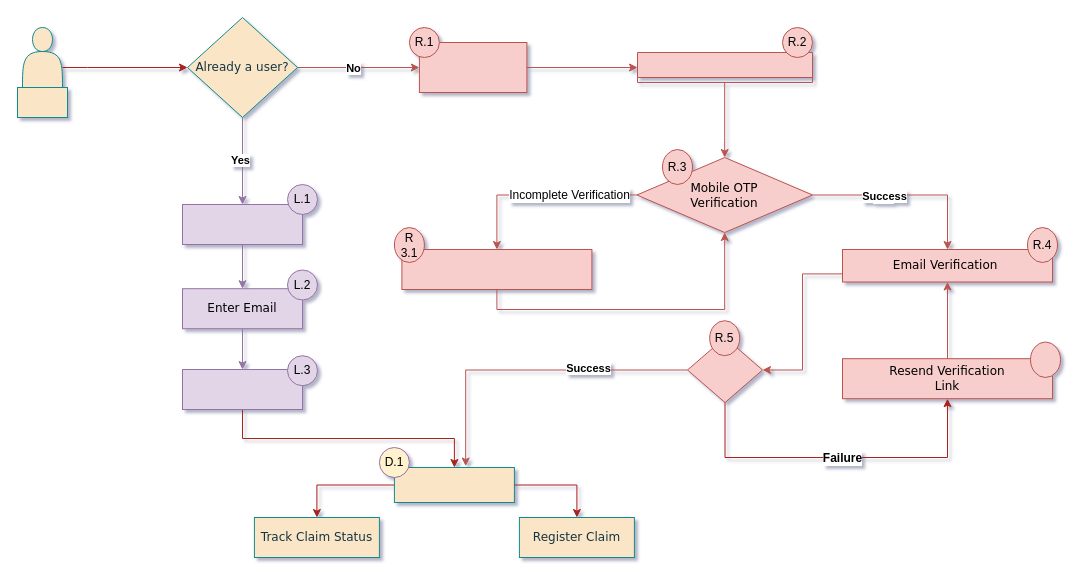
The diagram is 1084 pixels wide and 581 high, and some of its shapes have lost their labels. Each missing label, with the box of its shape:
Email OTP Verification: (182, 368, 302, 410)
Fill Registration Form: (636, 52, 812, 82)
Log in: (182, 204, 302, 244)
R.5.1: (1030, 341, 1060, 378)
Register: (418, 42, 527, 92)
Use log in option next time: (401, 248, 592, 290)
User: (16, 86, 68, 118)
User Dashboard: (393, 466, 514, 502)
Verified?: (686, 336, 762, 402)
